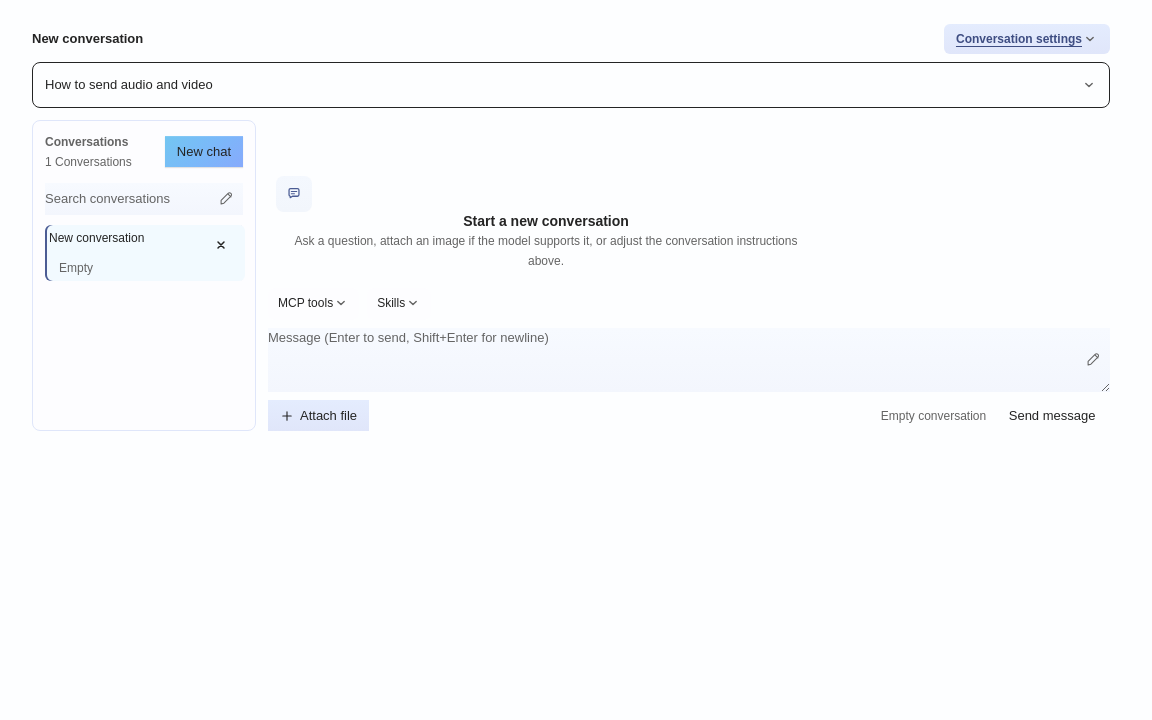
retains a request error when an earlier MCP discovery completes with success
Click the heading "MCP tools".
click(314, 304)  # box [268,288,359,320]
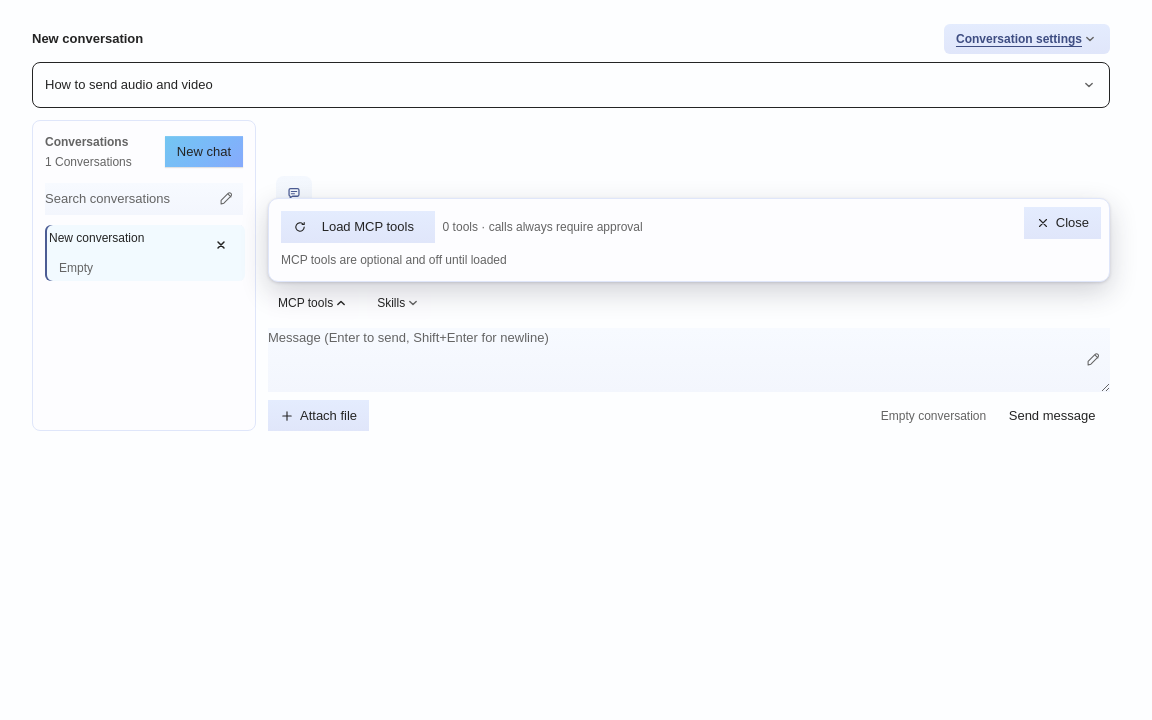
Click the button named "Load MCP tools".
click(358, 227)  # box [281,211,435,243]
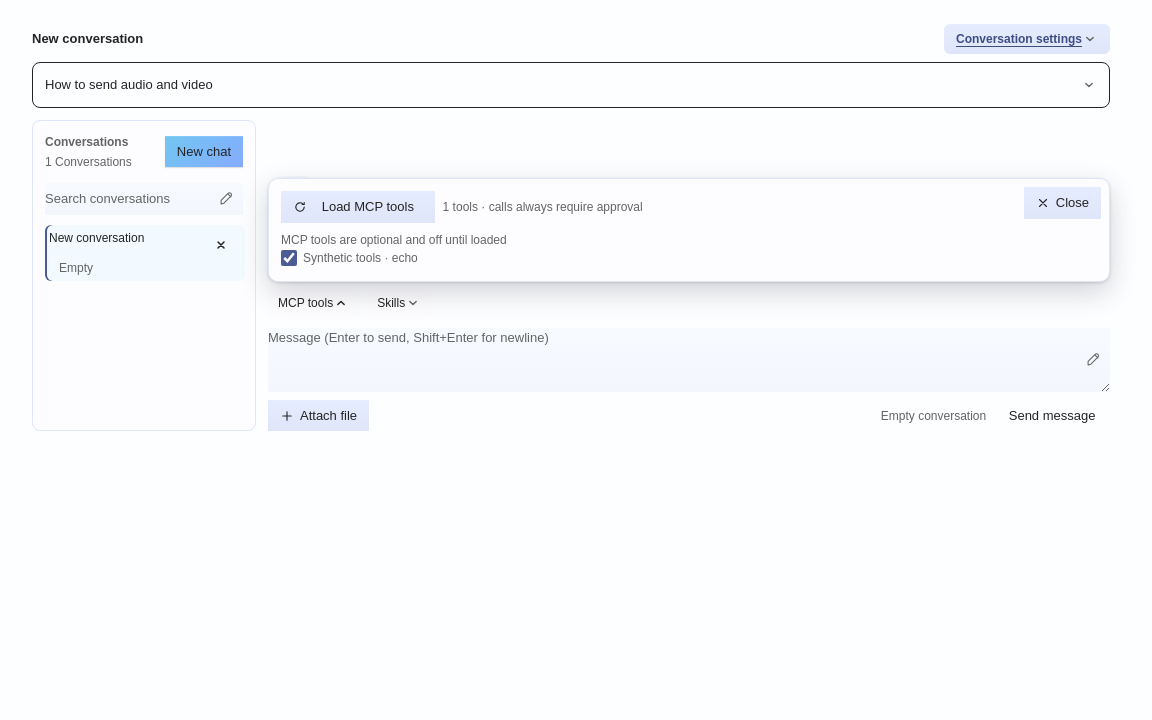
Expected: the button named "Load MCP tools" is enabled
Expected: the text "Synthetic tools · echo" is shown, [303,249,418,267]
Click the button named "Load MCP tools".
click(358, 207)  # box [281,191,435,223]
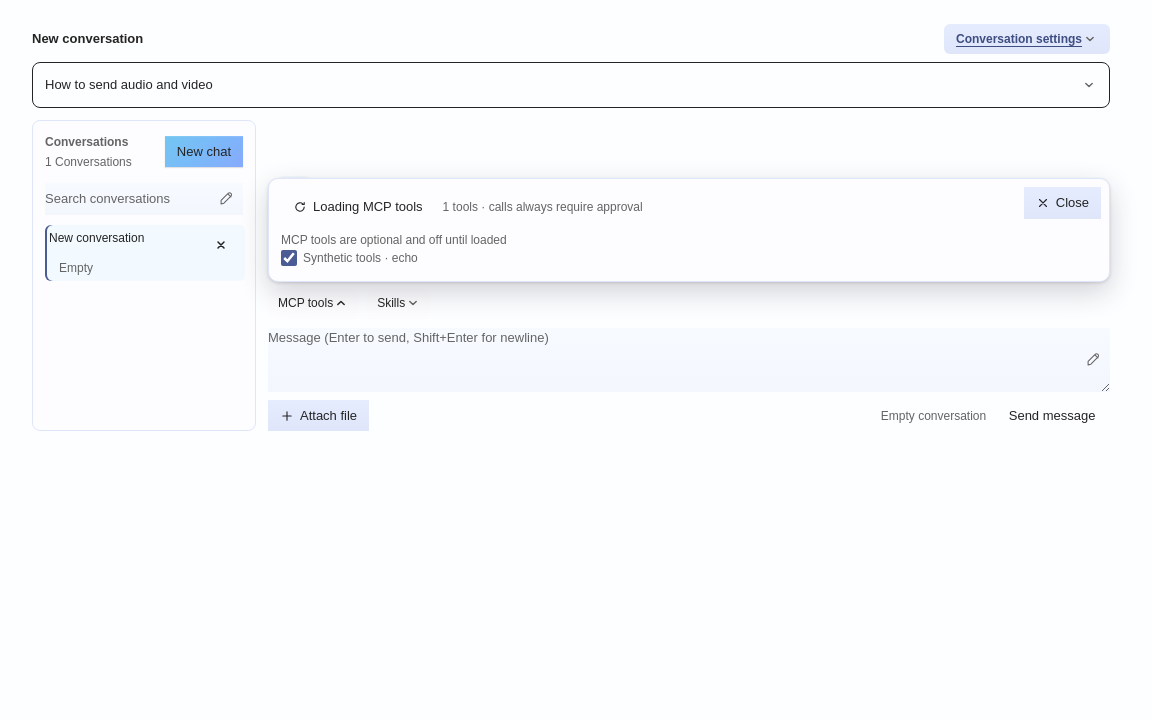
Type "Synthetic tool request" into the text box named "Chat message".
click(689, 360); type("Synthetic tool request")  # box [268,328,1110,392]
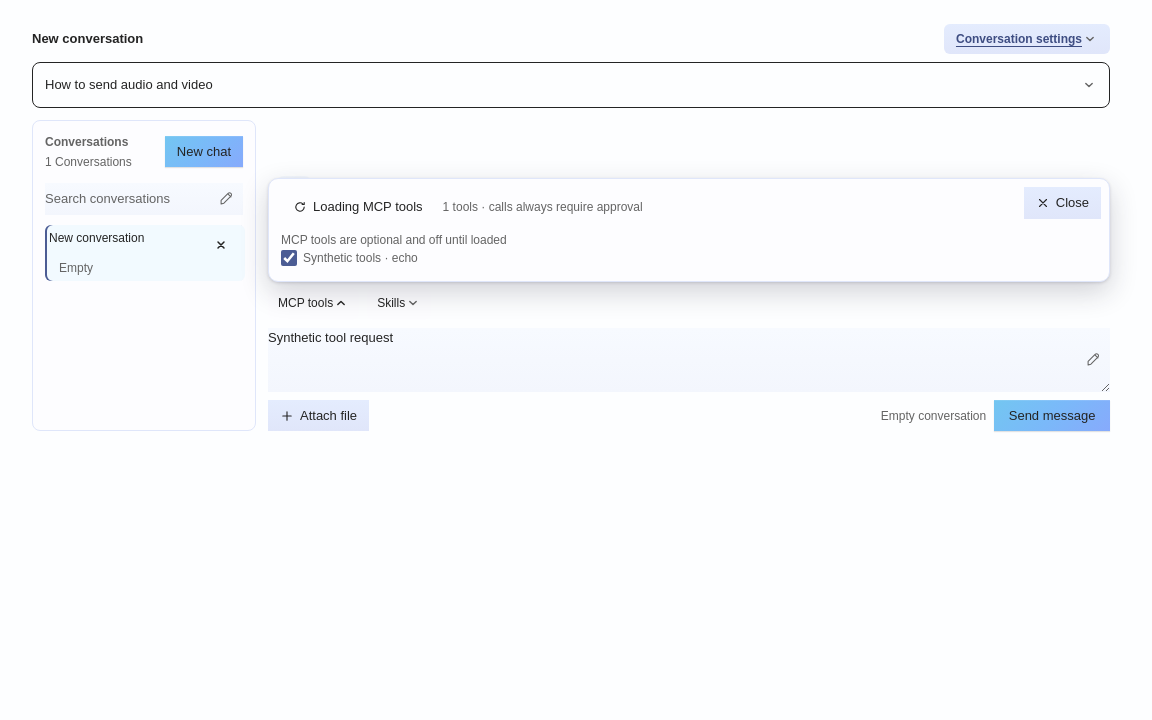
Click the button named "Send message".
click(1052, 416)  # box [994,400,1110,431]
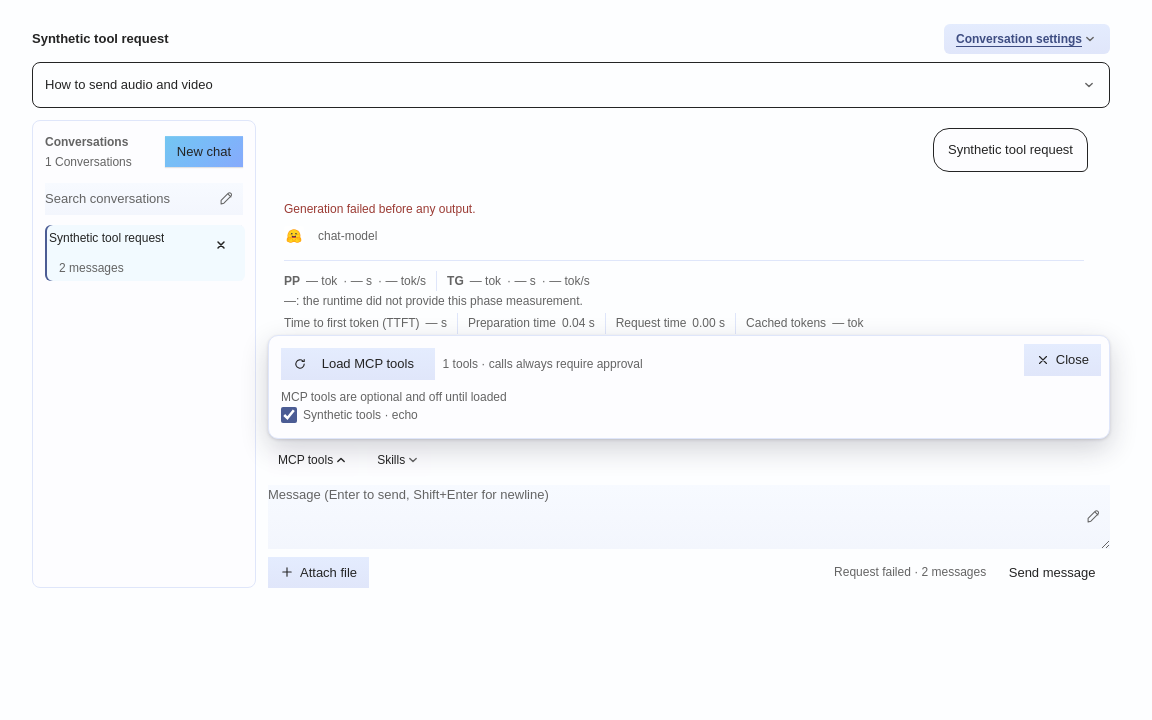
Expected: the message with class "chat-composer-status" does not show "Response complete", [834,565,986,579]
Expected: the message with class "chat-composer-status" shows "Request failed", [834,565,986,579]
